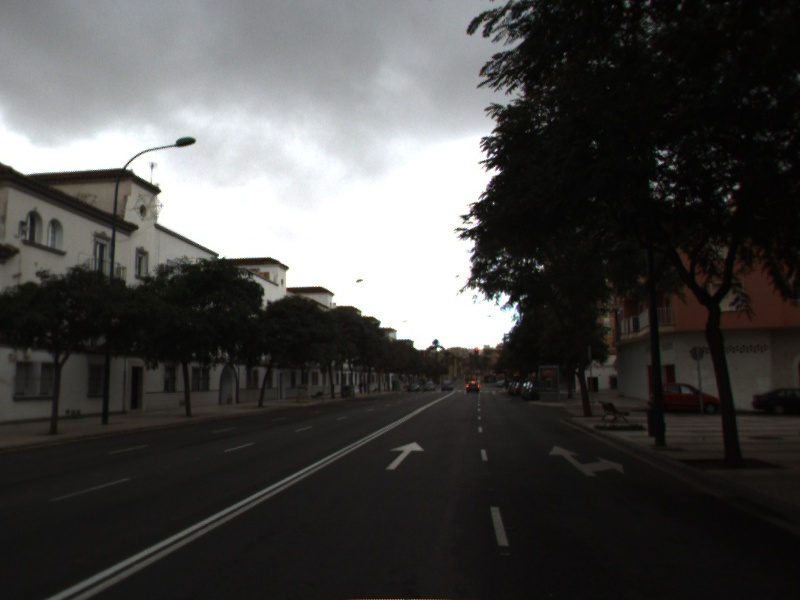STRAIGHT: (385, 440, 426, 471)
STRAIGHT_RIGHT: (548, 444, 625, 478)
